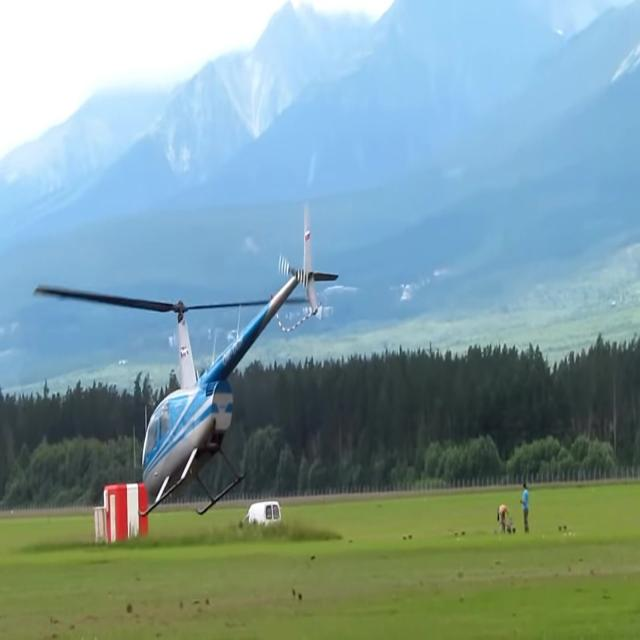CIV_HELO: (135, 204, 339, 518)
